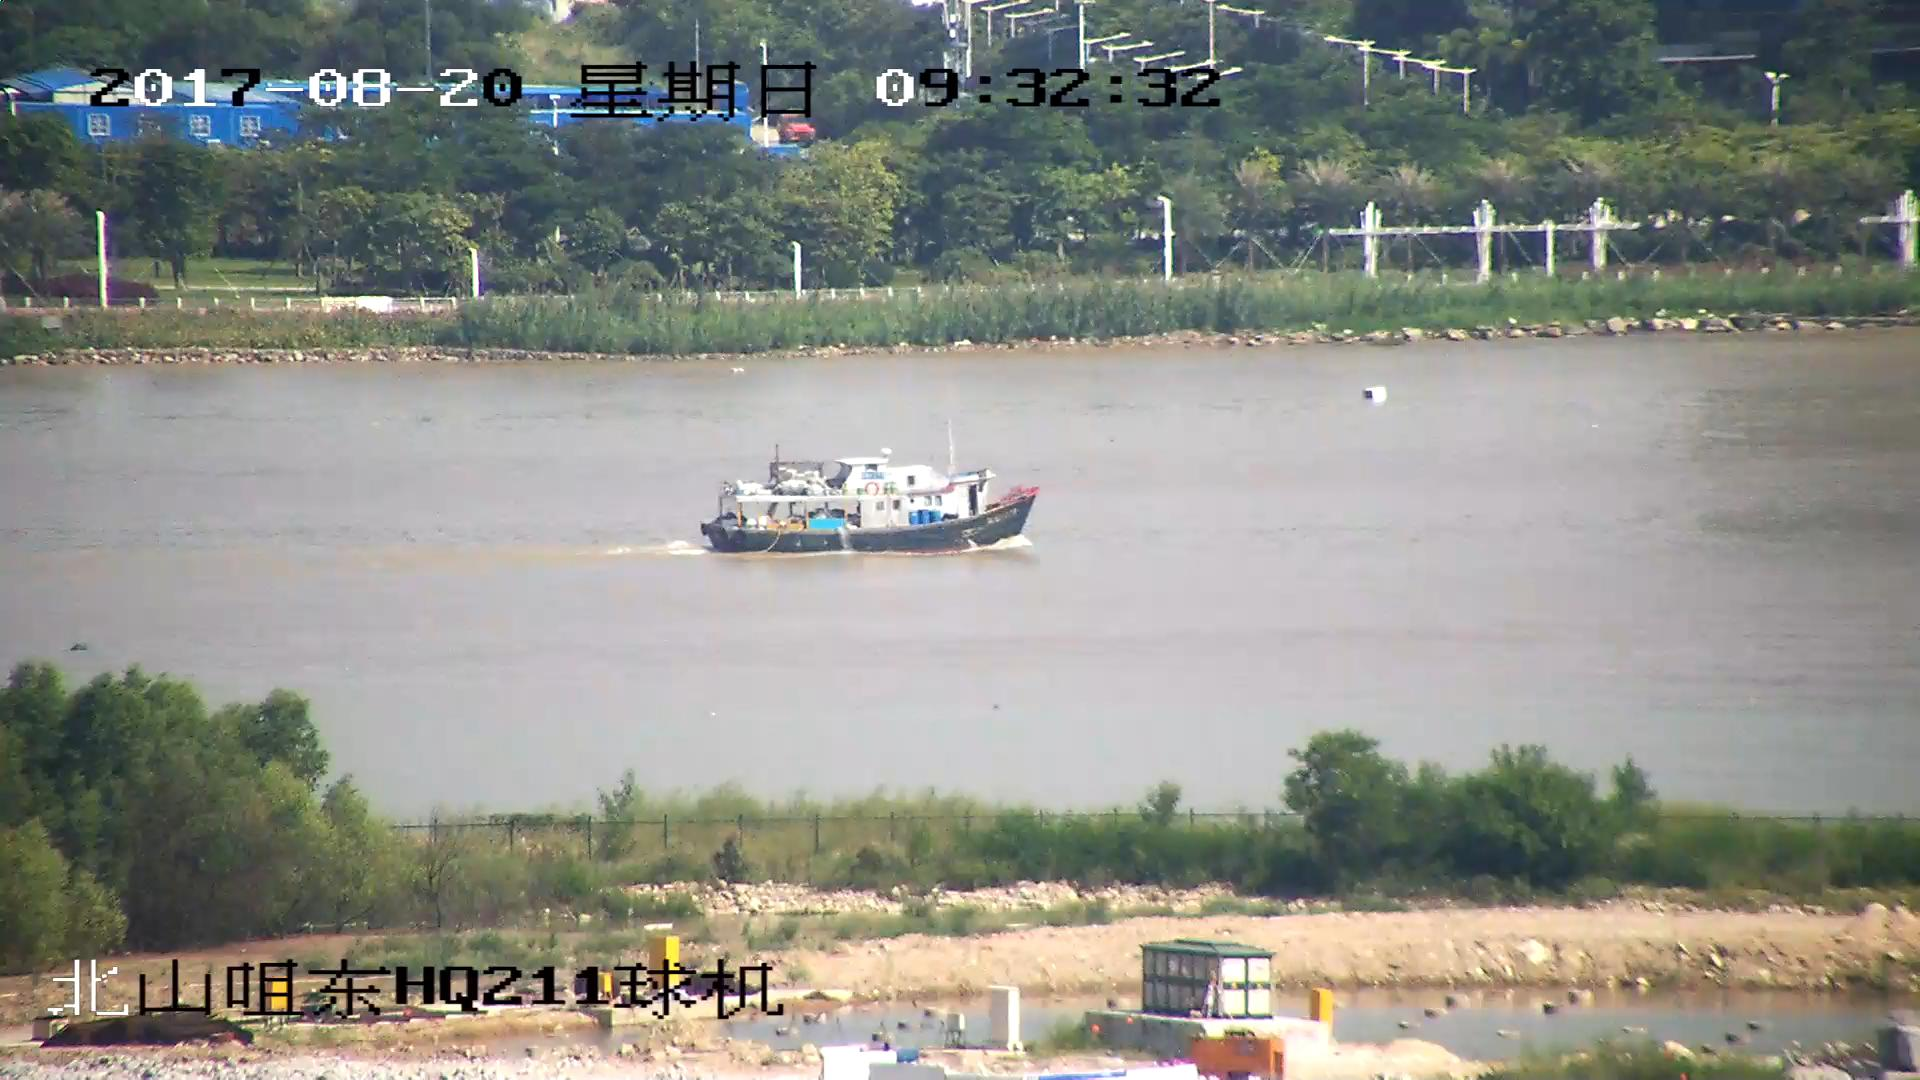fishing boat: (698, 444, 1038, 556)
